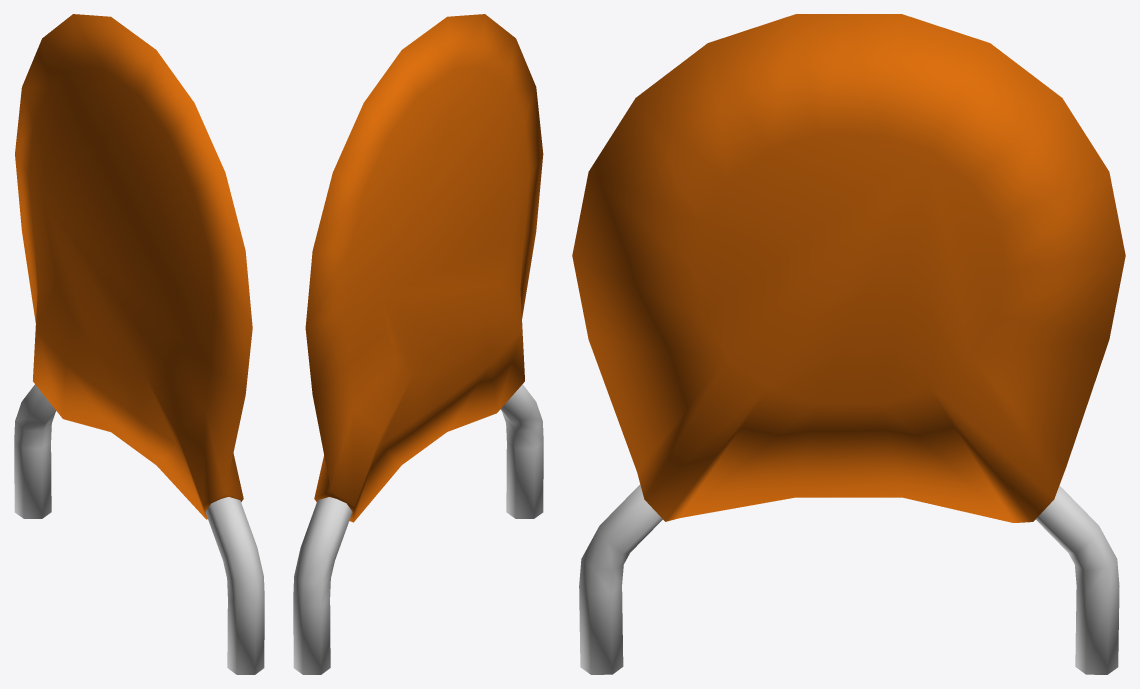
File: capacitorOrange.fbx
The picture shows the model from 3 angles, left to right: view 1: azimuth 30°, elevation 25°; view 2: azimuth 150°, elevation 25°; view 3: azimuth 270°, elevation 25°; orthographic projection. The views are drawn at different scales.
Visible parts, largest first — view 1: capacitorOrange; view 2: capacitorOrange; view 3: capacitorOrange.
Boxes of the visible parts, <box> form: capacitorOrange: <box>14,14,264,674</box>; capacitorOrange: <box>293,14,543,674</box>; capacitorOrange: <box>572,14,1125,674</box>.
Size of the model in its own units: 9.99 by 102 by 78.95.
